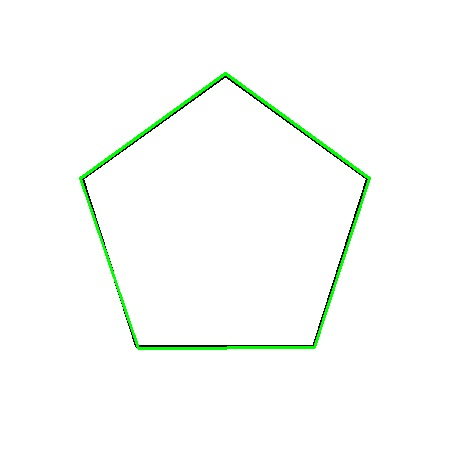line_segment: (80, 73, 370, 349)
